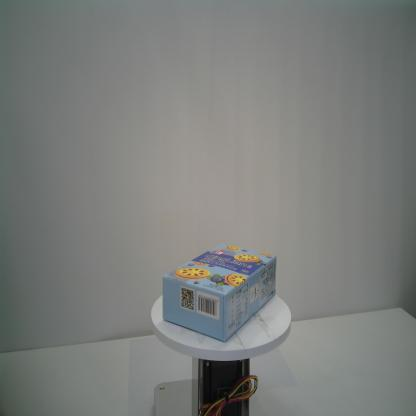Dessert: (161, 241, 278, 344)
